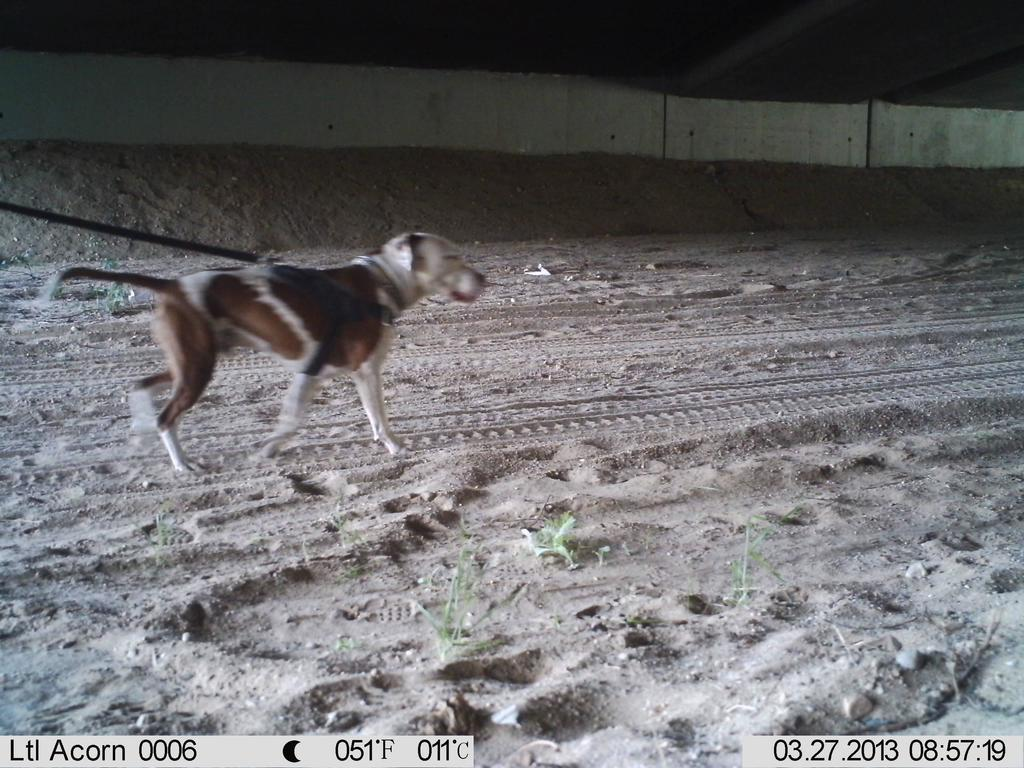dog: (39, 209, 509, 482)
